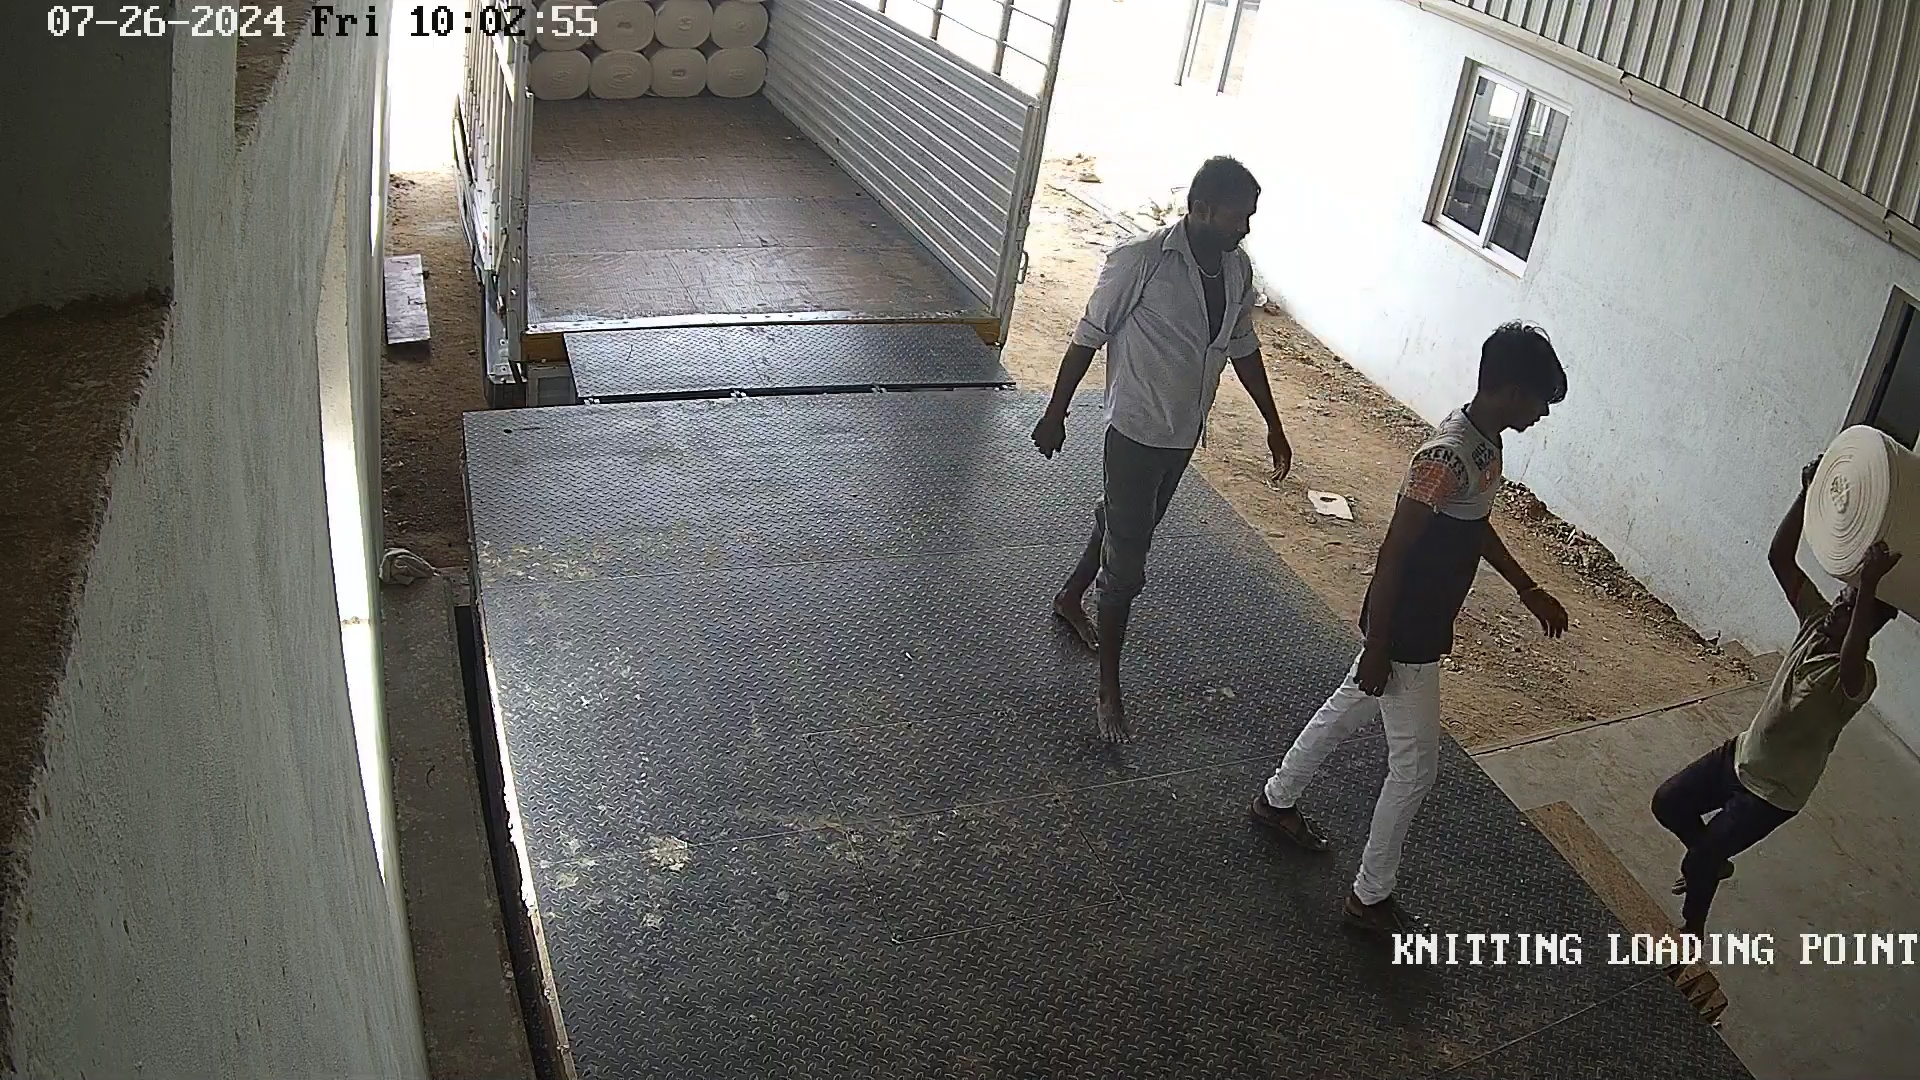bag: (1778, 415, 1920, 625)
